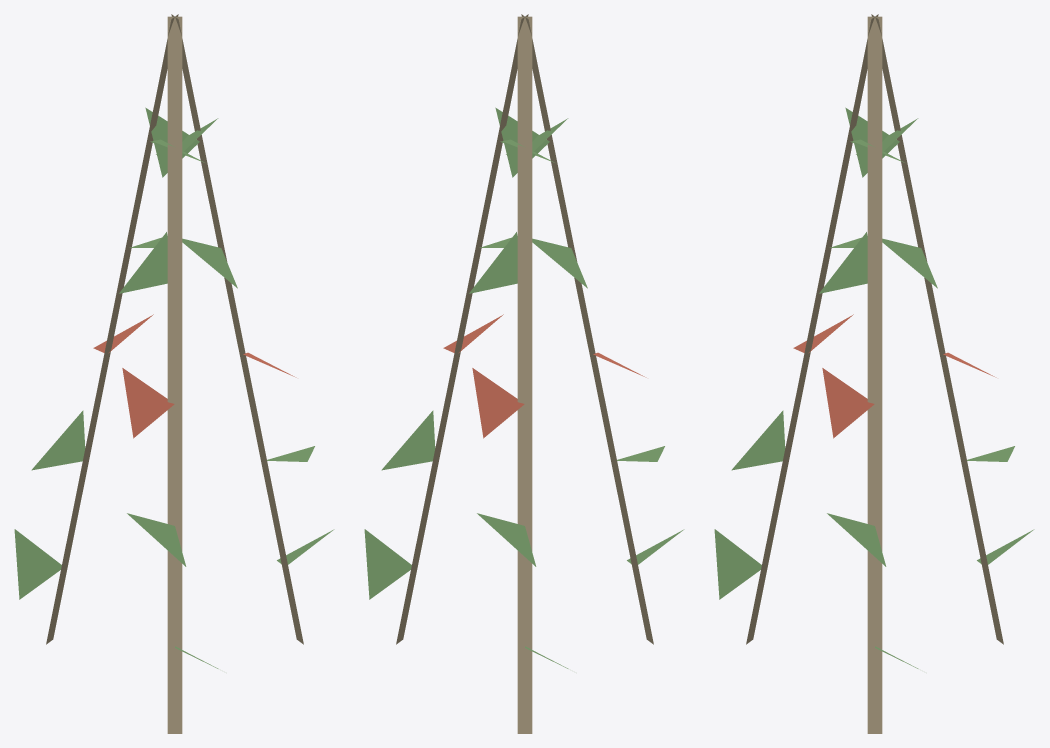
Rendered from runner_beans.glb.
The picture shows the model from 3 angles, left to right: view 1: azimuth 30°, elevation 25°; view 2: azimuth 150°, elevation 25°; view 3: azimuth 270°, elevation 25°; orthographic projection.
Parts seen in each view (by area): view 1: runner_beans_mesh; view 2: runner_beans_mesh; view 3: runner_beans_mesh.
Part boxes in pixels (bbox=[...]): runner_beans_mesh: bbox=[14, 14, 334, 733]; runner_beans_mesh: bbox=[364, 14, 684, 733]; runner_beans_mesh: bbox=[714, 14, 1034, 733].
Bounding box in the file's own units: 0.6346 × 1.5 × 0.6651.
